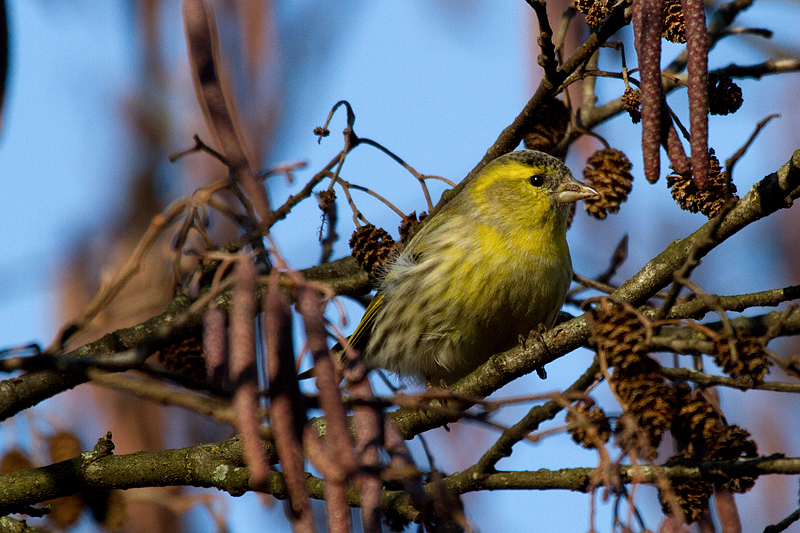bird: (352, 149, 603, 398)
